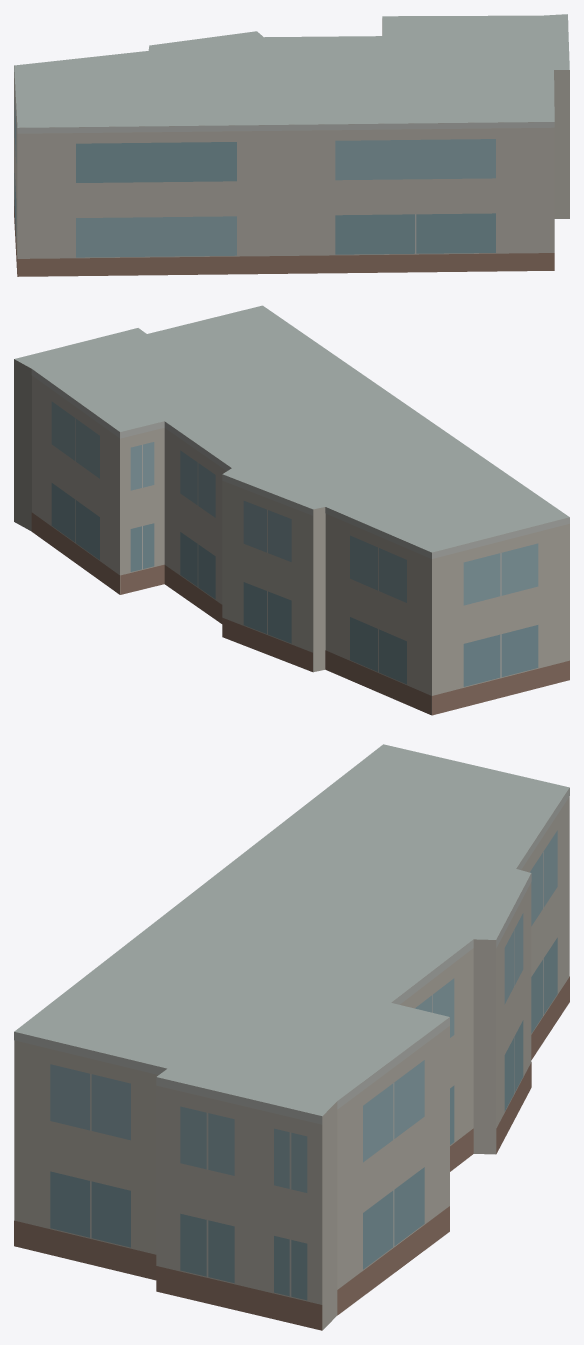
The model's file is survey-upis-32816613.glb.
3 renders of one model, top to bottom at view 1: azimuth 30°, elevation 25°; view 2: azimuth 150°, elevation 25°; view 3: azimuth 270°, elevation 25°, orthographic. The views are drawn at different scales.
Parts seen in each view (by area): view 1: survey-upis-32816613.tmp; view 2: survey-upis-32816613.tmp; view 3: survey-upis-32816613.tmp.
Boxes of the visible parts, x1=… form: survey-upis-32816613.tmp: x1=14, y1=14, x2=569, y2=276; survey-upis-32816613.tmp: x1=14, y1=305, x2=569, y2=715; survey-upis-32816613.tmp: x1=14, y1=744, x2=569, y2=1330.
Bounding box in the file's own units: 22.7 × 6.1 × 14.33.
